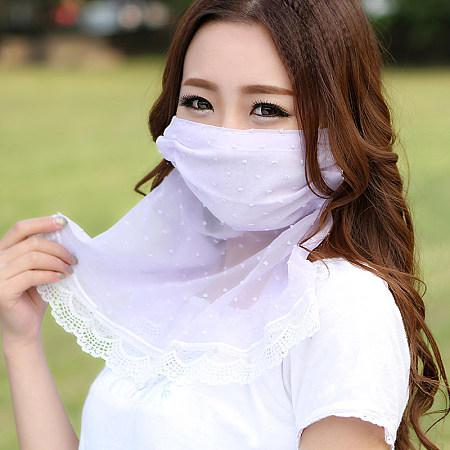OK: (165, 68, 332, 228)
